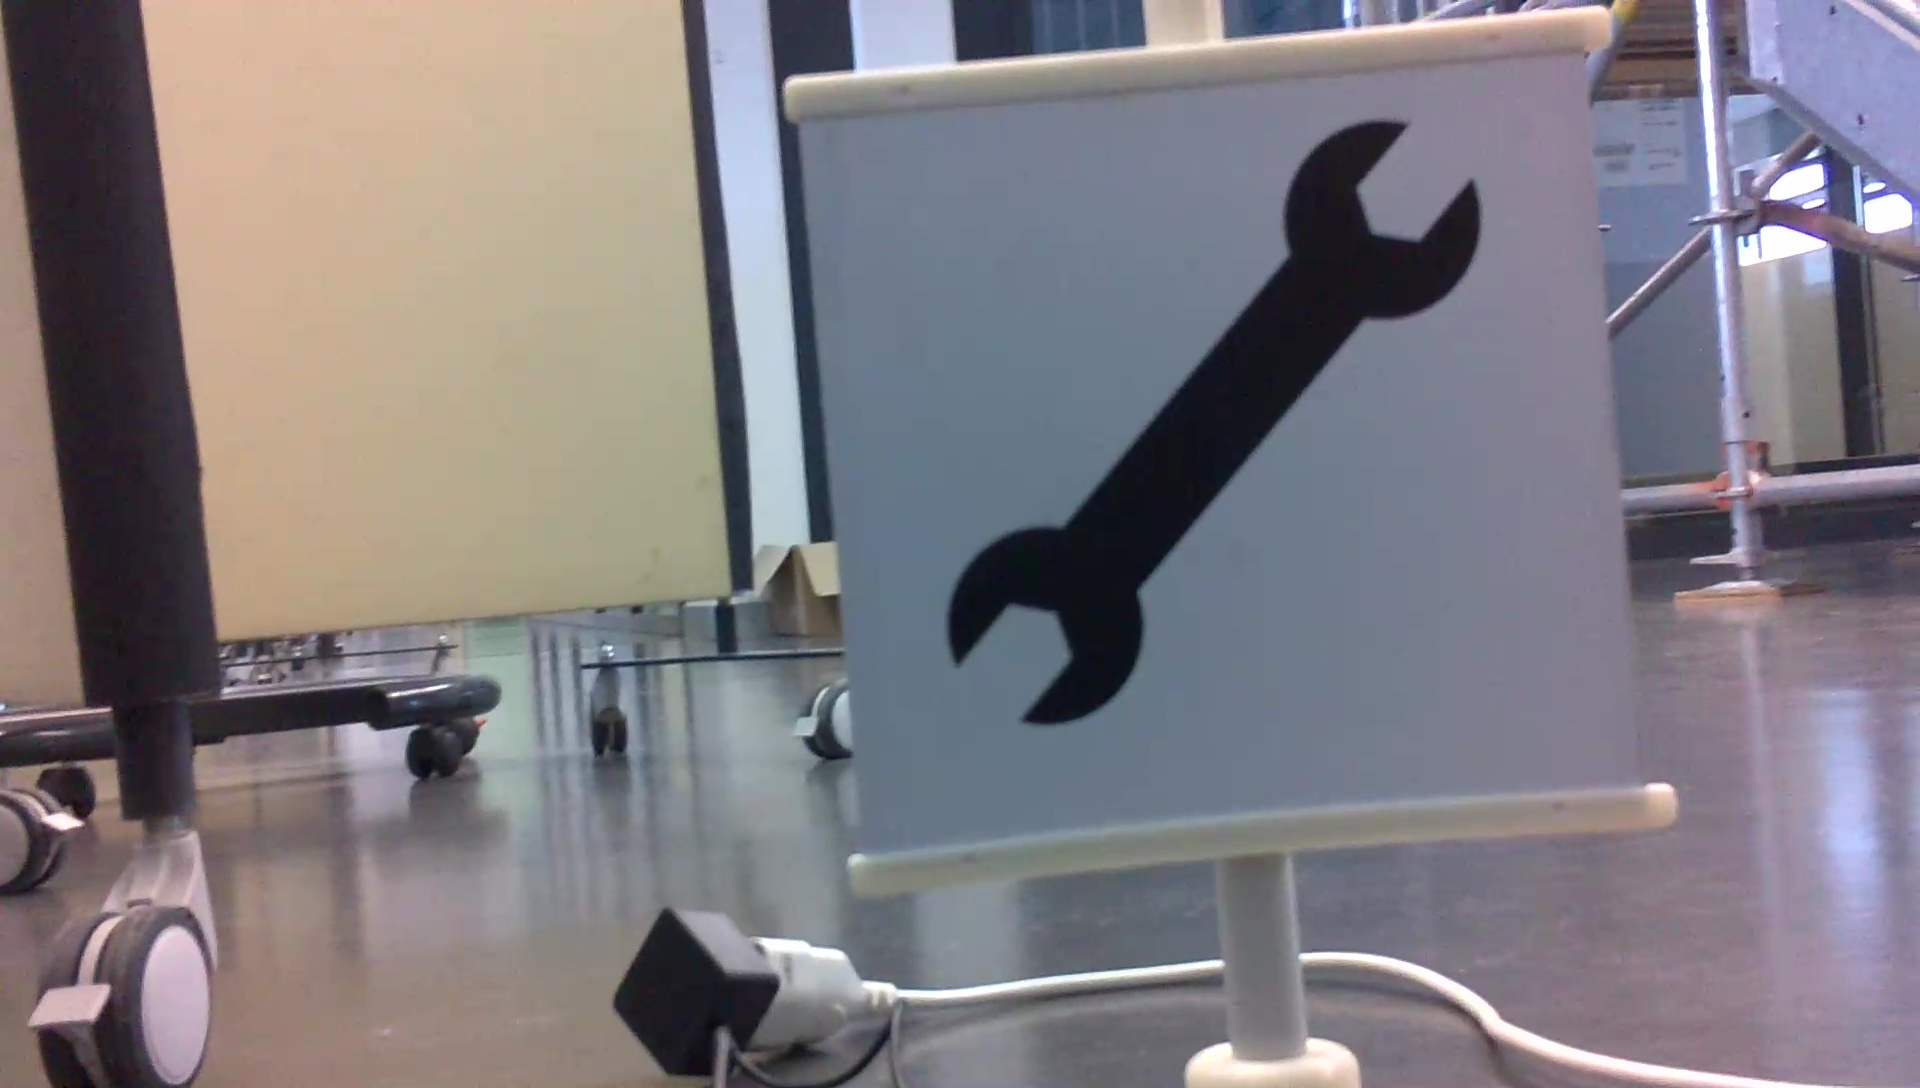wrench: (944, 112, 1487, 733)
